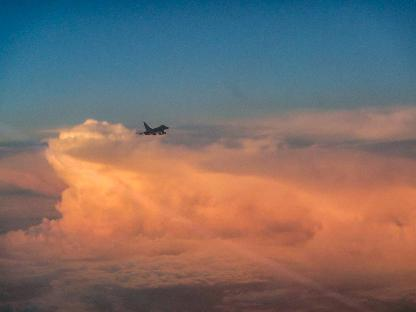E2: (135, 122, 169, 134)
